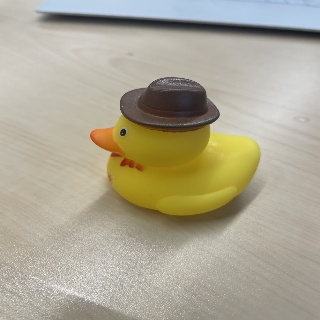duck_specialty: (88, 76, 259, 216)
